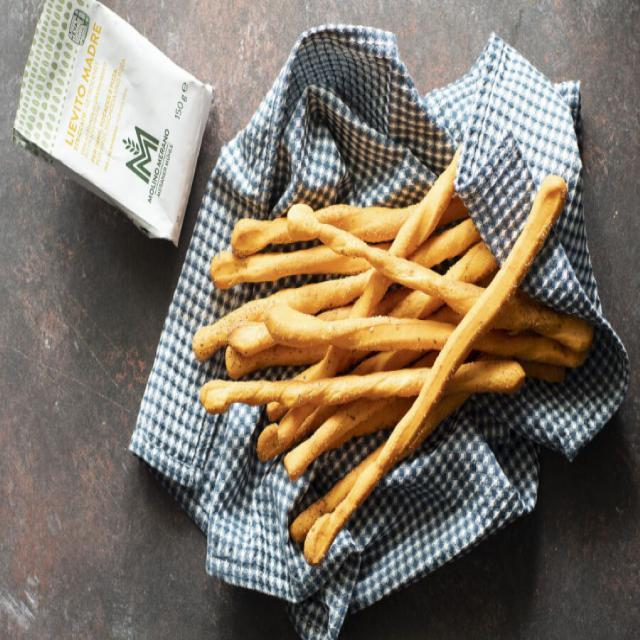Grissini: (205, 144, 591, 564)
